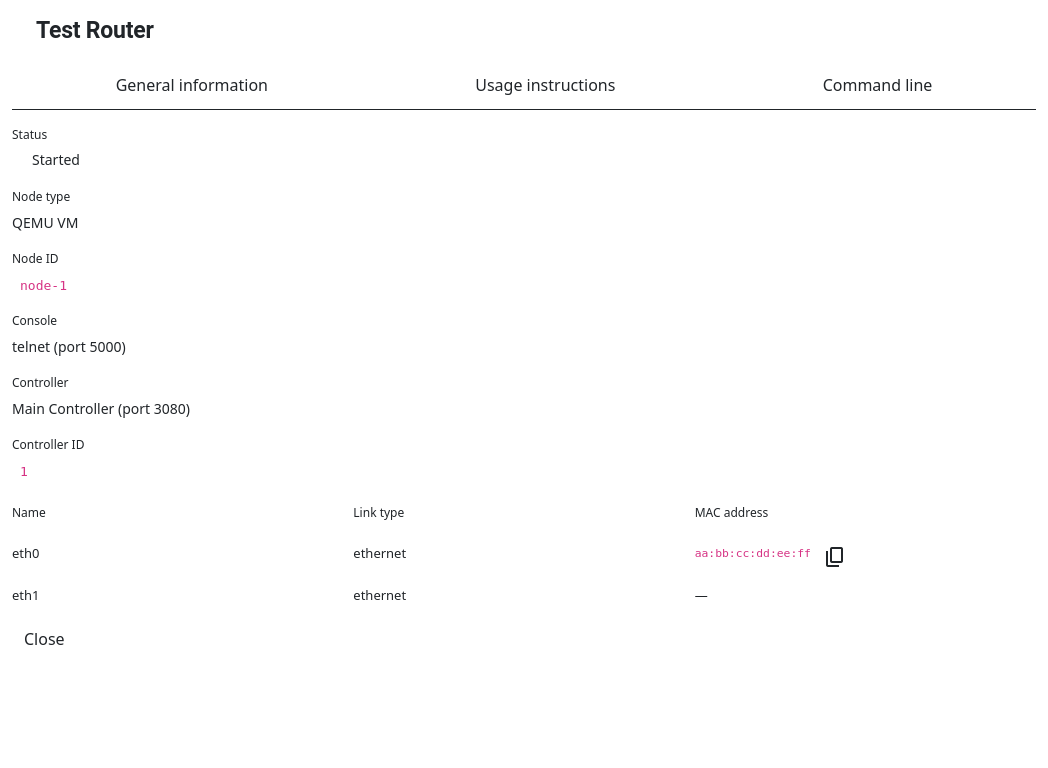
Test: InfoDialogComponent › Command line tab › should render the command line in a code block with a copy button
Click the tab "Command line" at (878, 85), box [823,74,932,96]
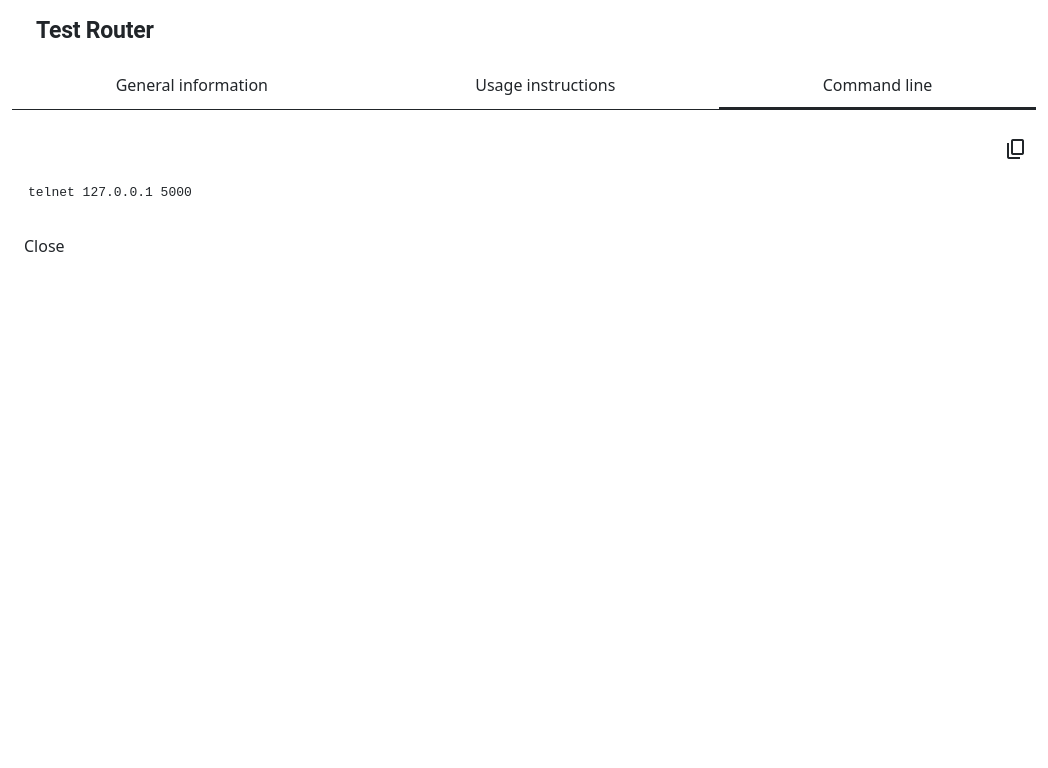
Check: the button without text below "Command line" is shown, box [996,126,1036,166]
Check: the text "telnet 127.0.0.1 5000" is shown, box [28,185,192,200]
